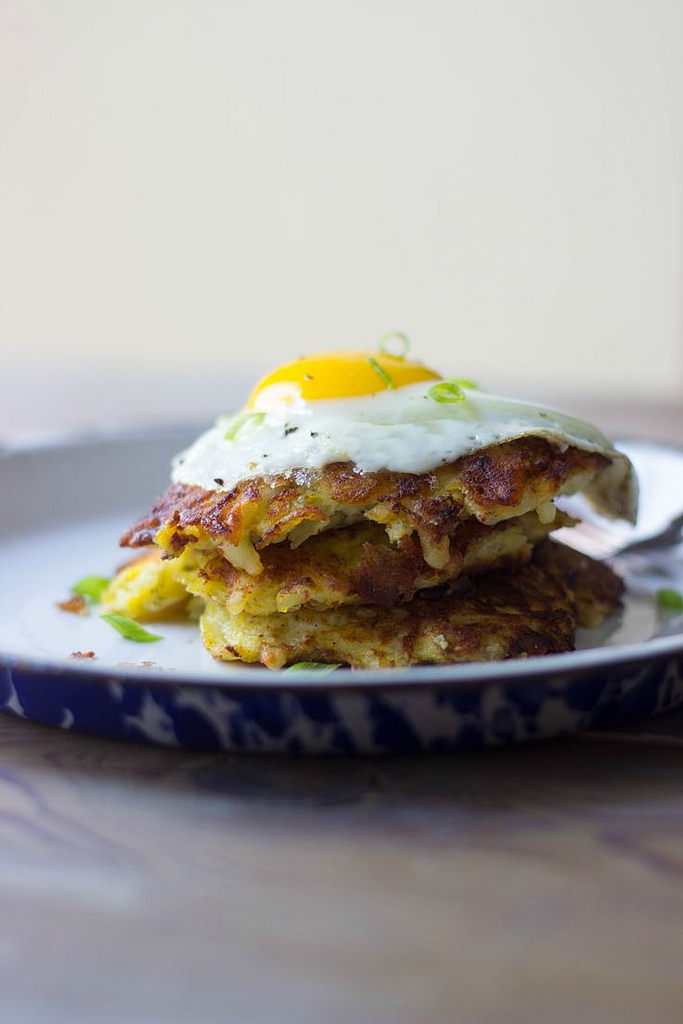fried egg: (208, 351, 592, 451)
